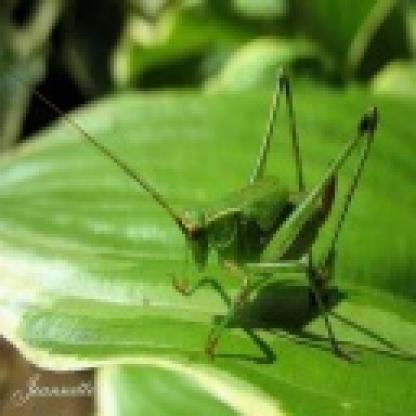grasshopper: (148, 69, 384, 264), (174, 247, 410, 366)
